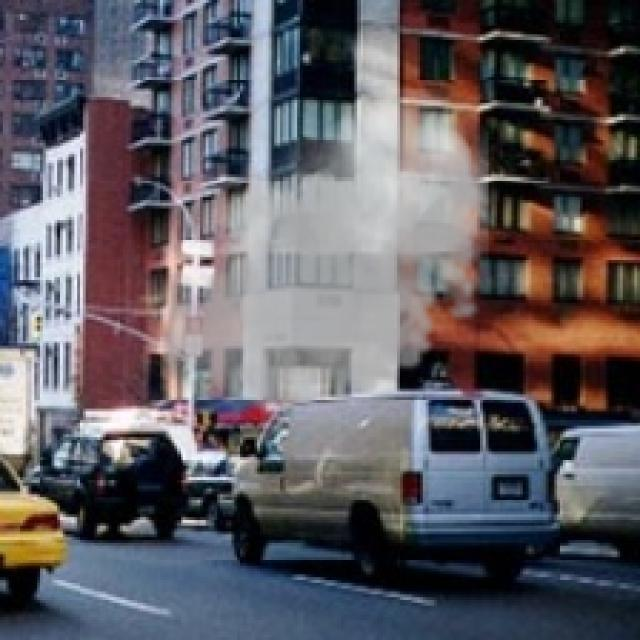Smoke: (154, 89, 503, 438)
